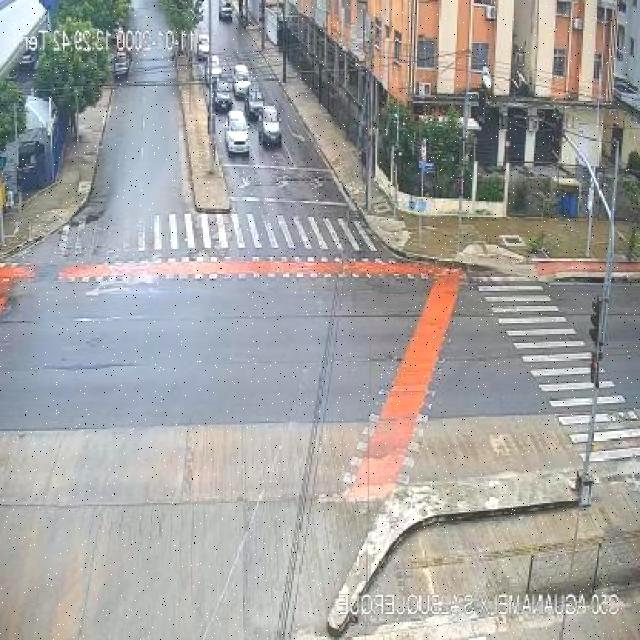Car: (223, 110, 251, 155), (258, 106, 284, 146), (244, 84, 265, 118), (211, 79, 232, 110), (233, 65, 251, 96), (114, 50, 129, 78), (197, 33, 211, 61), (220, 2, 233, 19)
